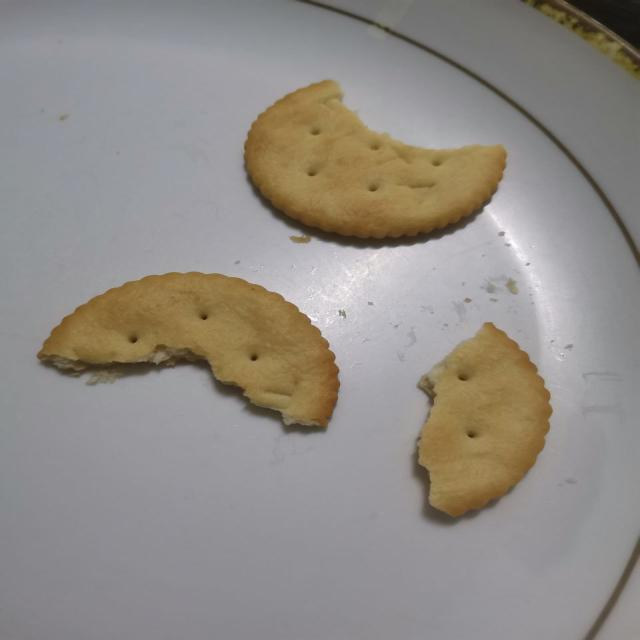broken biscuit: (36, 269, 342, 429), (241, 77, 508, 241), (413, 320, 553, 518)
